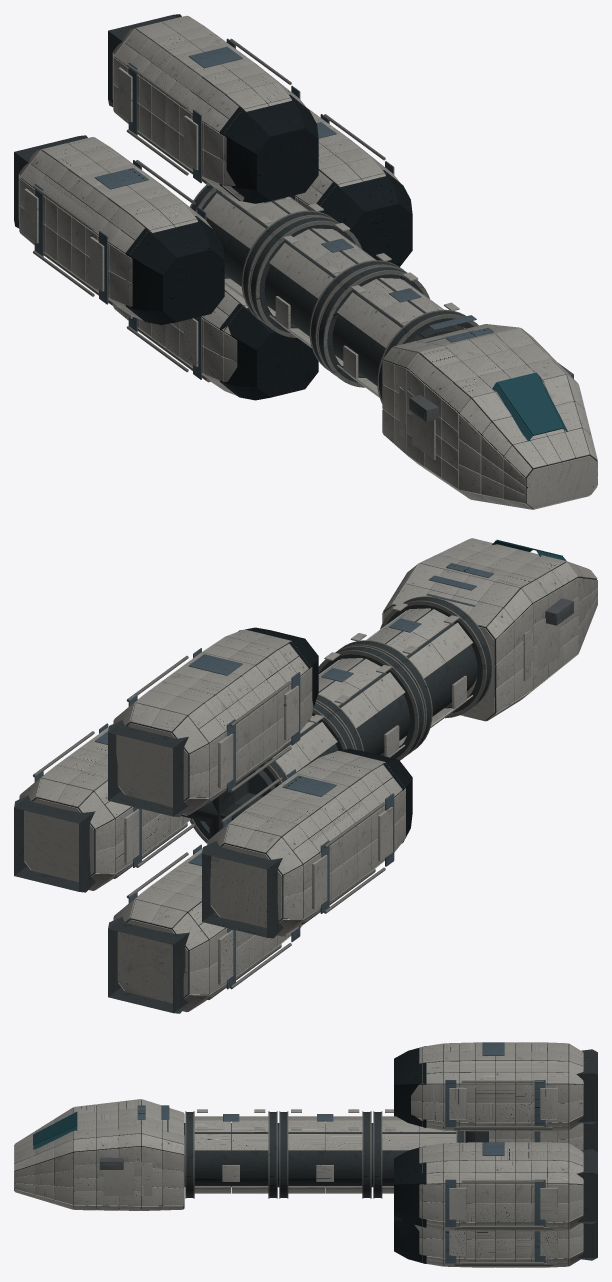
The model's file is model-outline.glb.
3 renders of one model, top to bottom at view 1: azimuth 30°, elevation 25°; view 2: azimuth 150°, elevation 25°; view 3: azimuth 270°, elevation 25°, orthographic. The views are drawn at different scales.
Visible parts, largest first — view 1: pale-steel-0, armoured-drive-cap, pale-steel-2, pale-steel-1, dark-structure, machined-alloy, blue-grey-1, canopy-glass, profiled-drive, command-pressure-shell; view 2: pale-steel-0, dark-structure, pale-steel-2, pale-steel-1, machined-alloy, blue-grey-1, armoured-drive-cap, profiled-drive; view 3: pale-steel-0, dark-structure, pale-steel-2, pale-steel-1, armoured-drive-cap, machined-alloy, blue-grey-1, profiled-drive, canopy-glass, command-pressure-shell.
Part boxes in pixels (bbox=[...]): pale-steel-0: bbox=[18, 15, 597, 508]; armoured-drive-cap: bbox=[126, 94, 412, 400]; pale-steel-2: bbox=[24, 67, 597, 509]; pale-steel-1: bbox=[215, 188, 597, 509]; dark-structure: bbox=[14, 14, 473, 400]; machined-alloy: bbox=[33, 38, 478, 403]; blue-grey-1: bbox=[34, 38, 493, 379]; canopy-glass: bbox=[492, 372, 567, 441]; profiled-drive: bbox=[20, 29, 333, 332]; command-pressure-shell: bbox=[383, 350, 596, 508]; pale-steel-0: bbox=[19, 555, 597, 1012]; dark-structure: bbox=[14, 597, 491, 1013]; pale-steel-2: bbox=[124, 538, 597, 984]; pale-steel-1: bbox=[281, 538, 597, 757]; machined-alloy: bbox=[33, 596, 492, 999]; blue-grey-1: bbox=[34, 563, 493, 989]; armoured-drive-cap: bbox=[238, 627, 412, 843]; profiled-drive: bbox=[32, 646, 399, 997]; pale-steel-0: bbox=[14, 1042, 583, 1267]; dark-structure: bbox=[184, 1049, 597, 1263]; pale-steel-2: bbox=[14, 1087, 557, 1255]; pale-steel-1: bbox=[14, 1099, 452, 1210]; armoured-drive-cap: bbox=[394, 1046, 425, 1263]; machined-alloy: bbox=[185, 1080, 552, 1265]; blue-grey-1: bbox=[137, 1042, 545, 1263]; profiled-drive: bbox=[422, 1043, 582, 1266]; canopy-glass: bbox=[33, 1111, 77, 1149]; command-pressure-shell: bbox=[14, 1100, 183, 1209].
Bounding box in the file's own units: 25.02 × 24.65 × 62.19.
10 materials, 9 textured.
